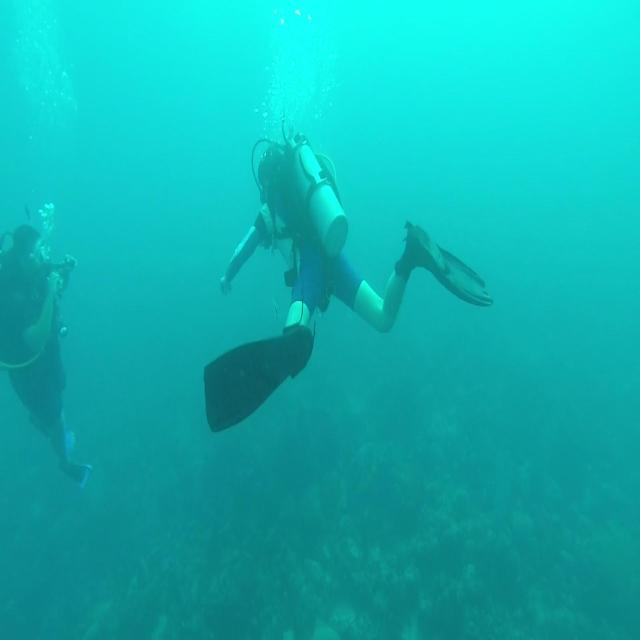human: (203, 122, 493, 433), (0, 222, 93, 489)
